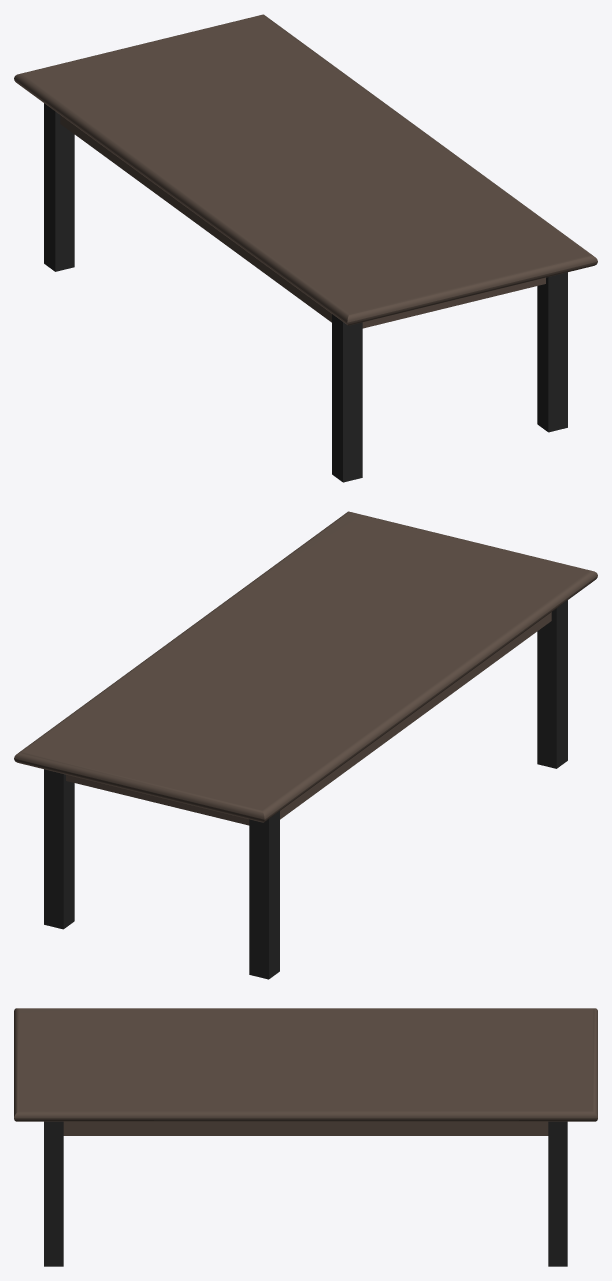
File: GrandeTable_39.fbx
The picture shows the model from 3 angles, top to bottom: view 1: azimuth 30°, elevation 25°; view 2: azimuth 150°, elevation 25°; view 3: azimuth 270°, elevation 25°; orthographic projection. The views are drawn at different scales.
Visible parts, largest first — view 1: pCube80, pCube82, pCube81, pCube83; view 2: pCube80, pCube83, pCube84, pCube82; view 3: pCube80, pCube84, pCube81.
Boxes of the visible parts, x1,y1,x2,y2 form: pCube80: (14,14,597,328); pCube82: (332,314,362,482); pCube81: (537,272,567,432); pCube83: (44,103,74,271); pCube80: (14,511,597,825); pCube83: (249,811,279,979); pCube84: (44,769,74,929); pCube82: (537,600,567,768); pCube80: (14,1008,597,1135); pCube84: (548,1121,567,1266); pCube81: (44,1121,63,1266).
Size of the model in its own units: 57.3 by 39.63 by 132.
